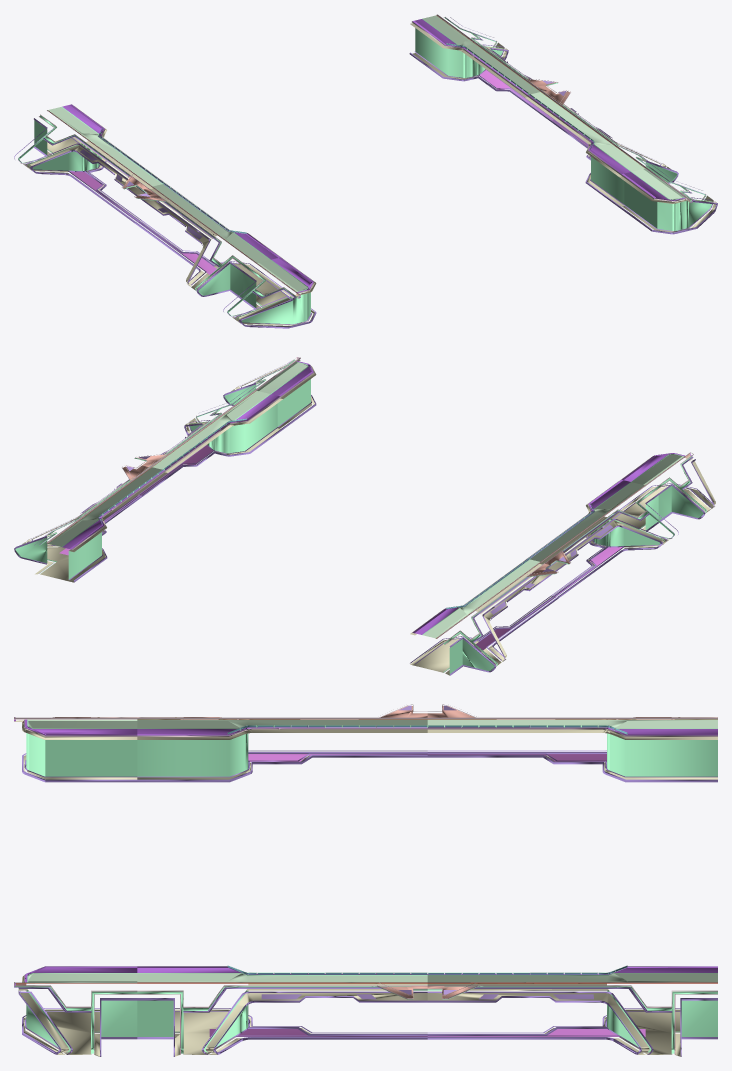
The model's file is shipyard_platform_i_hull_b_lod1.glb.
3 renders of one model, top to bottom at view 1: azimuth 30°, elevation 25°; view 2: azimuth 150°, elevation 25°; view 3: azimuth 270°, elevation 25°, orthographic. The views are drawn at different scales.
Size of the model in its own units: 362 by 25.48 by 330.
